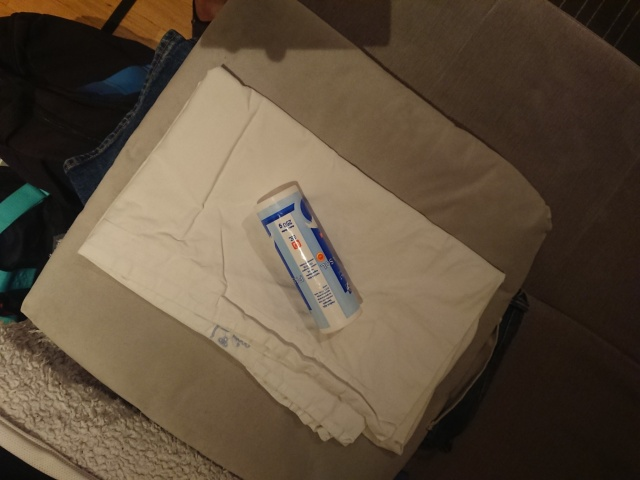Solana Pag Fine Sea Salt 250g: (251, 181, 365, 336)
